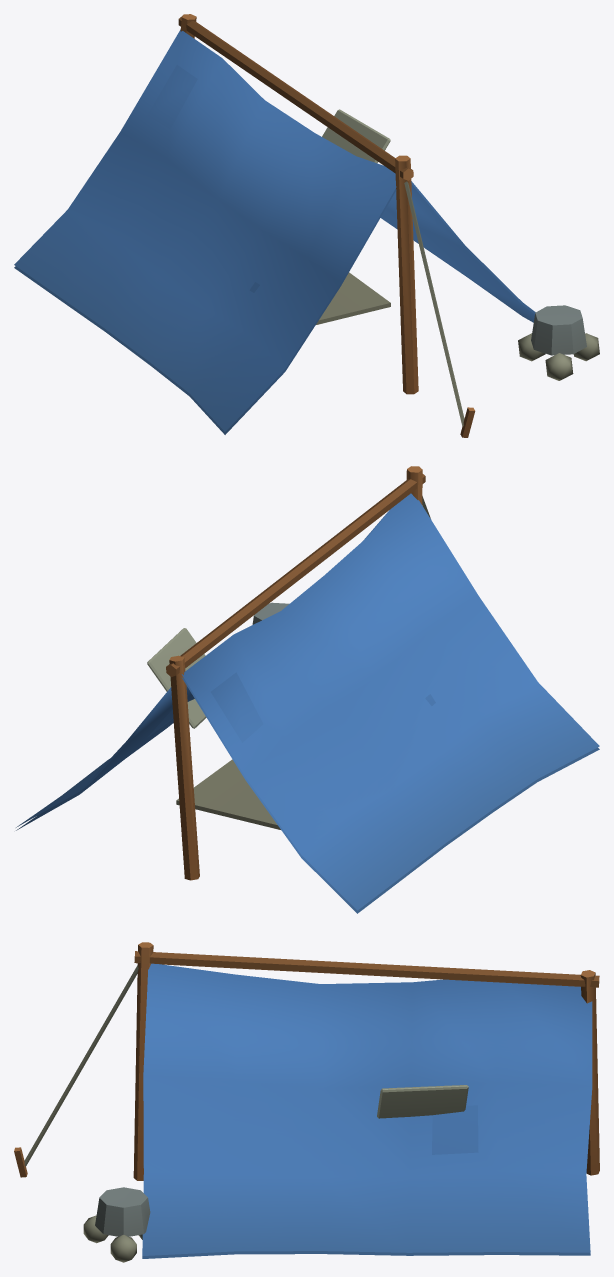
File: tenda.glb
The picture shows the model from 3 angles, top to bottom: view 1: azimuth 30°, elevation 25°; view 2: azimuth 150°, elevation 25°; view 3: azimuth 270°, elevation 25°; orthographic projection. The views are drawn at different scales.
Visible parts, largest first — view 1: tenda_mesh; view 2: tenda_mesh; view 3: tenda_mesh.
Boxes of the visible parts, bbox=[...] form: tenda_mesh: bbox=[14, 14, 599, 437]; tenda_mesh: bbox=[16, 466, 599, 913]; tenda_mesh: bbox=[14, 942, 599, 1262].
Size of the model in its own units: 1.88 by 1.17 by 2.65.
